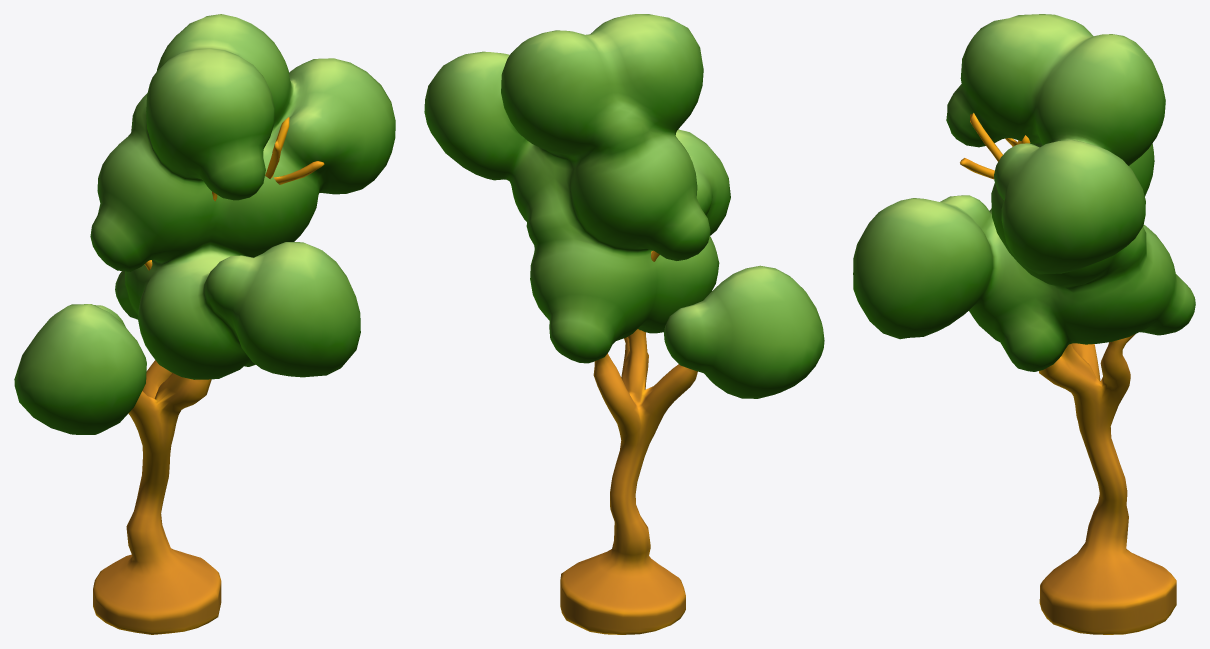
The model's file is tree6.fbx.
3 views of the same model, side by side, from view 1: azimuth 30°, elevation 25°; view 2: azimuth 150°, elevation 25°; view 3: azimuth 270°, elevation 25° (orthographic). The views are drawn at different scales.
Visible parts, largest first — view 1: trunk_7; view 2: trunk_7; view 3: trunk_7.
Boxes of the visible parts, x1,y1,x2,y2 form: trunk_7: (14, 14, 395, 634); trunk_7: (424, 14, 824, 634); trunk_7: (853, 14, 1195, 634).
Bounding box in the file's own units: 406 × 585 × 304.
